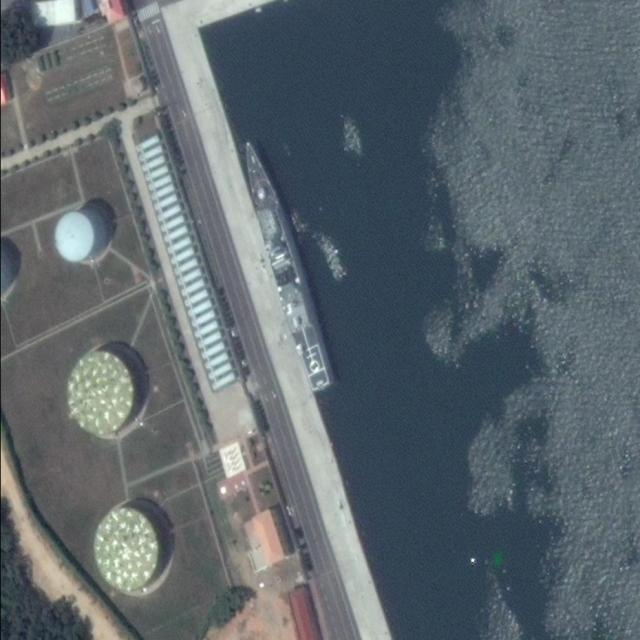Auxiliary Ships: (234, 136, 333, 398)
